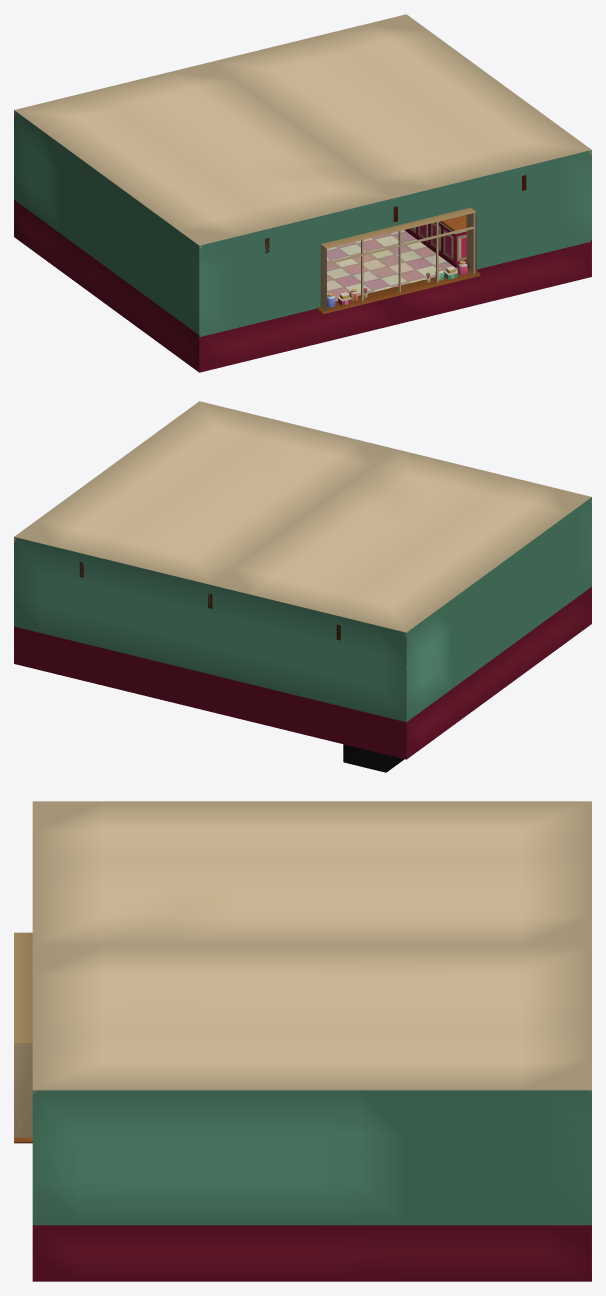
Rendered from hm_honey_int_01_webp.glb.
3 renders of one model, top to bottom at view 1: azimuth 30°, elevation 25°; view 2: azimuth 150°, elevation 25°; view 3: azimuth 270°, elevation 25°, orthographic. The views are drawn at different scales.
Visible parts, largest first — view 1: Honey_Interior; view 2: Honey_Interior; view 3: Honey_Interior.
Part boxes in pixels (<box>): Honey_Interior: <box>14,14,591,372</box>; Honey_Interior: <box>14,401,591,772</box>; Honey_Interior: <box>14,801,591,1281</box>.
Bounding box in the file's own units: 11 × 4.1 × 9.3.
Materials: 6 (2 with a texture image).
